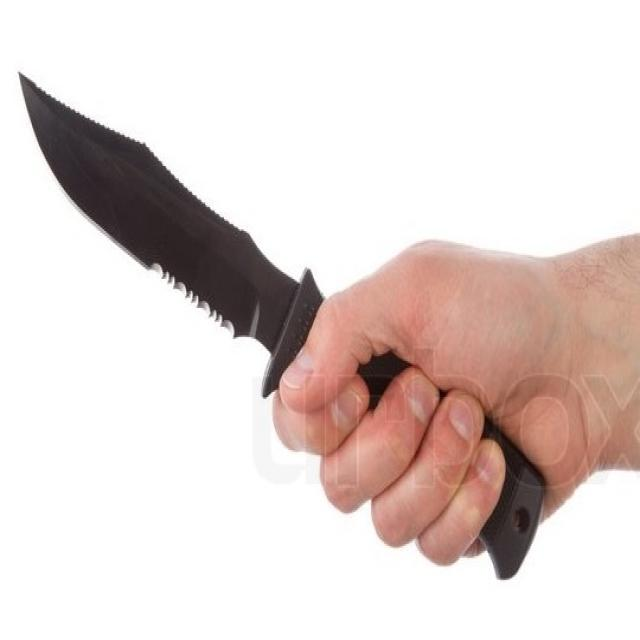knife: (15, 70, 549, 583)
